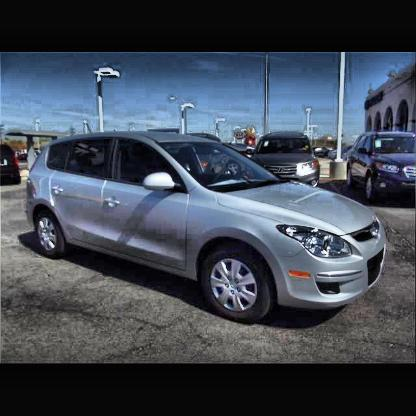Hyundai Elantra Touring Hatchback 2012: (26, 129, 388, 324)
